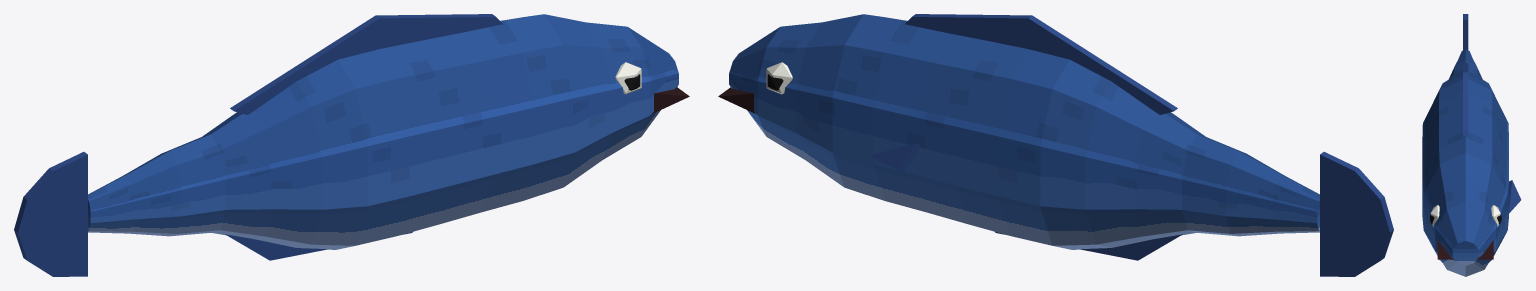
File: eastern_blue_groper.glb
The picture shows the model from 3 angles, left to right: view 1: azimuth 30°, elevation 25°; view 2: azimuth 150°, elevation 25°; view 3: azimuth 270°, elevation 25°; orthographic projection. The views are drawn at different scales.
Visible parts, largest first — view 1: fish_eastern_blue_groper; view 2: fish_eastern_blue_groper; view 3: fish_eastern_blue_groper.
Part boxes in pixels (left/top/right/bottom): fish_eastern_blue_groper: left=14, top=14, right=689, bottom=276; fish_eastern_blue_groper: left=718, top=14, right=1393, bottom=276; fish_eastern_blue_groper: left=1422, top=14, right=1521, bottom=276.
Size of the model in its own units: 1.12 by 0.3658 by 0.2178.
Materials: 5 (1 with a texture image).
